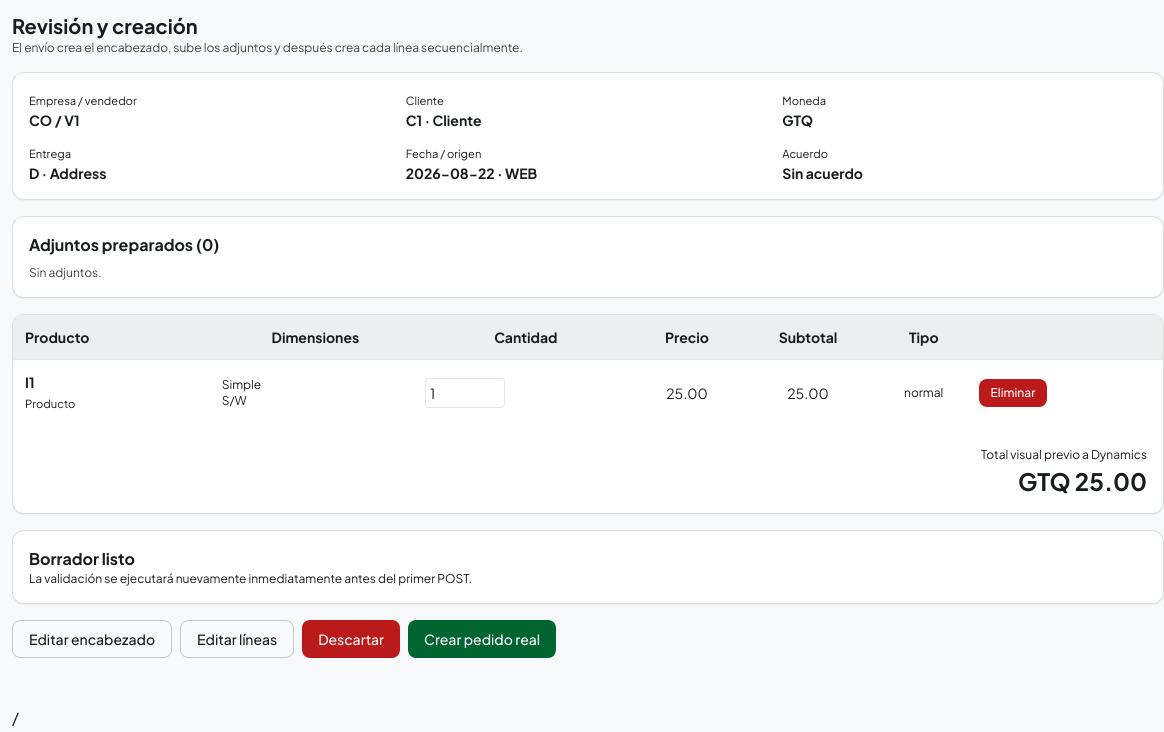
Test: OrderDraftReviewPage recovery, editing and navigation coverage › requires confirmation to discard an editable draft (true)
Click the button "Descartar" at (351, 639), box top-left (302, 620), bottom-right (400, 658)
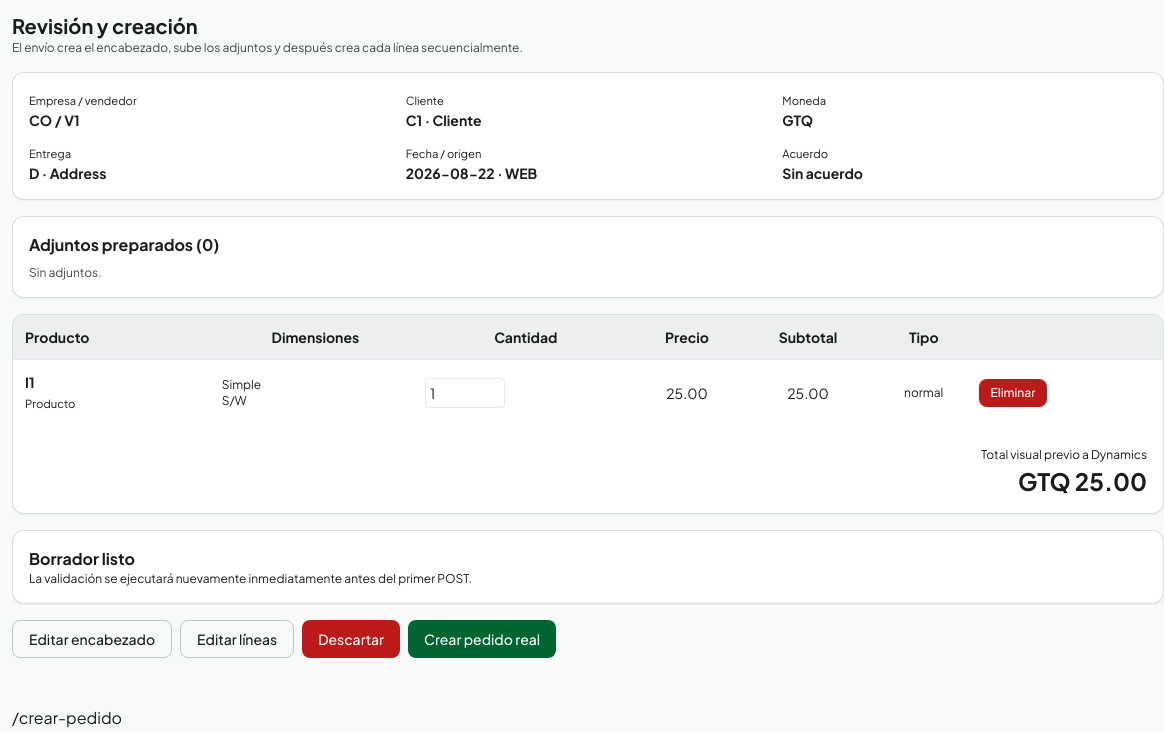
Result: the text with test id "location" reads "/crear-pedido" at top-left (12, 707), bottom-right (122, 728)
